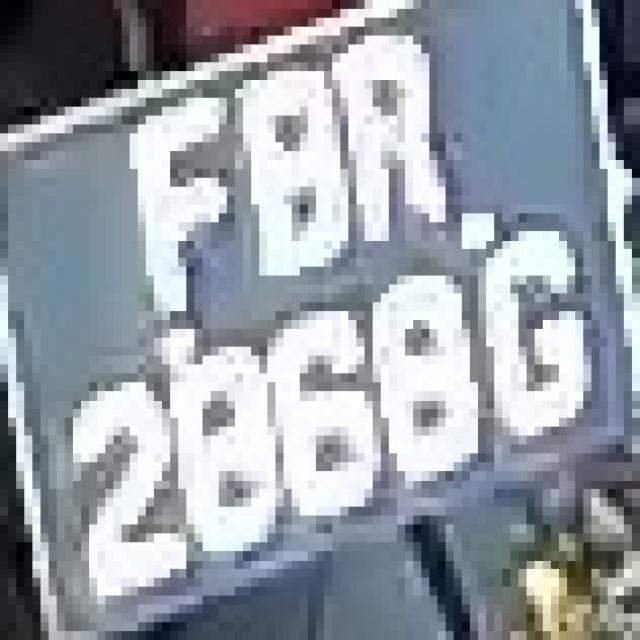2: (49, 374, 186, 596)
6: (251, 275, 357, 569)
8: (348, 249, 486, 489), (162, 338, 284, 586)
B: (219, 54, 340, 302)
F: (105, 98, 235, 320)
G: (486, 196, 608, 436)
R: (316, 35, 446, 249)
